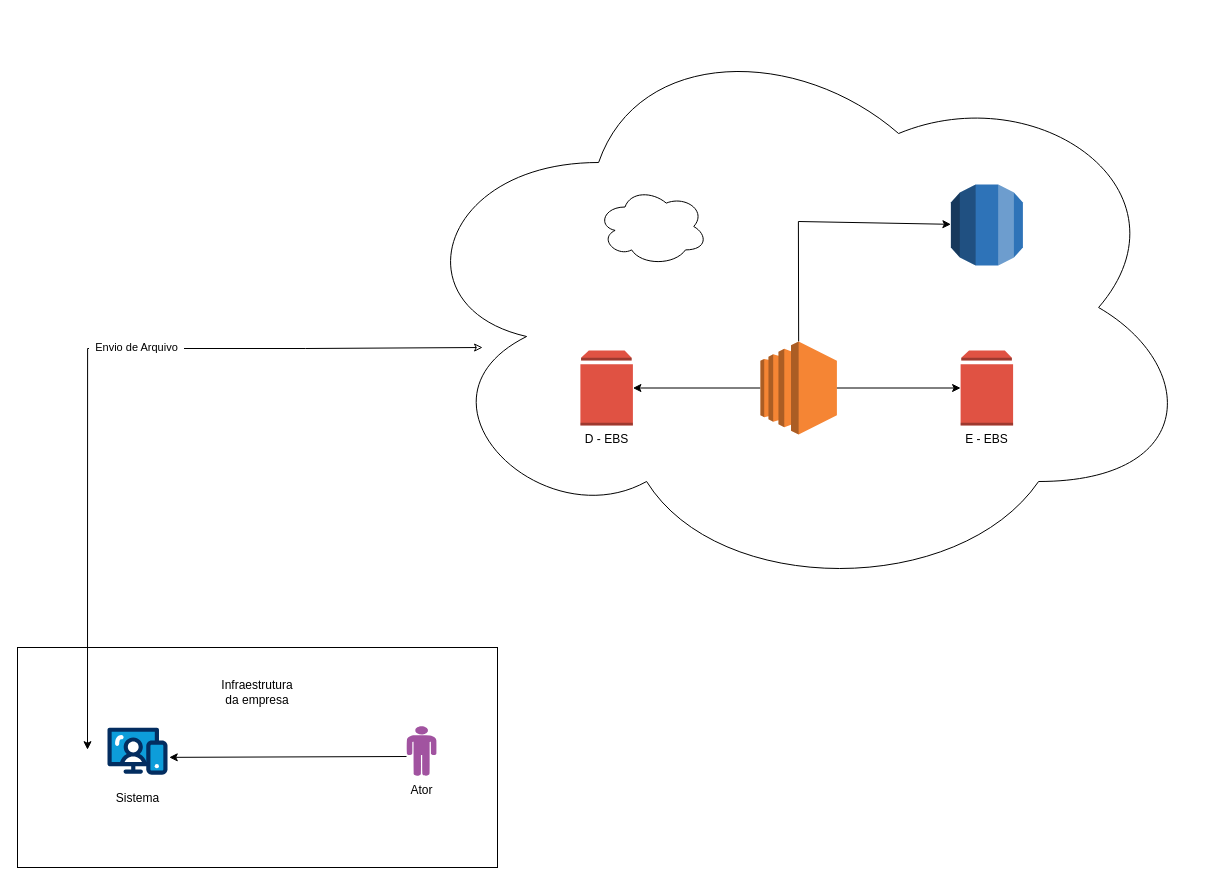
Some shapes in this 1217 by 885 pixel diagram are drawn without their labels. Here are the shapes that lost their labels. From the top down, the box of each, then its label:
(596, 186, 708, 266): AWS
(950, 184, 1023, 266): RDS
